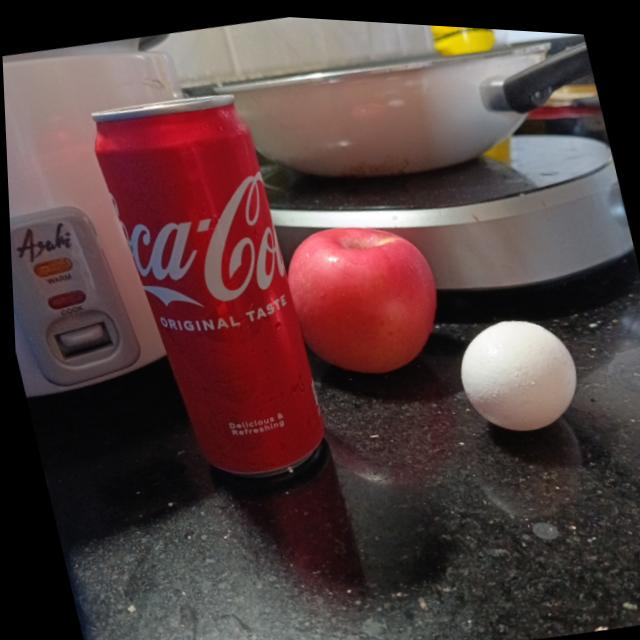apple: (277, 207, 449, 385)
coke: (85, 80, 326, 488)
egg: (446, 302, 585, 438)
